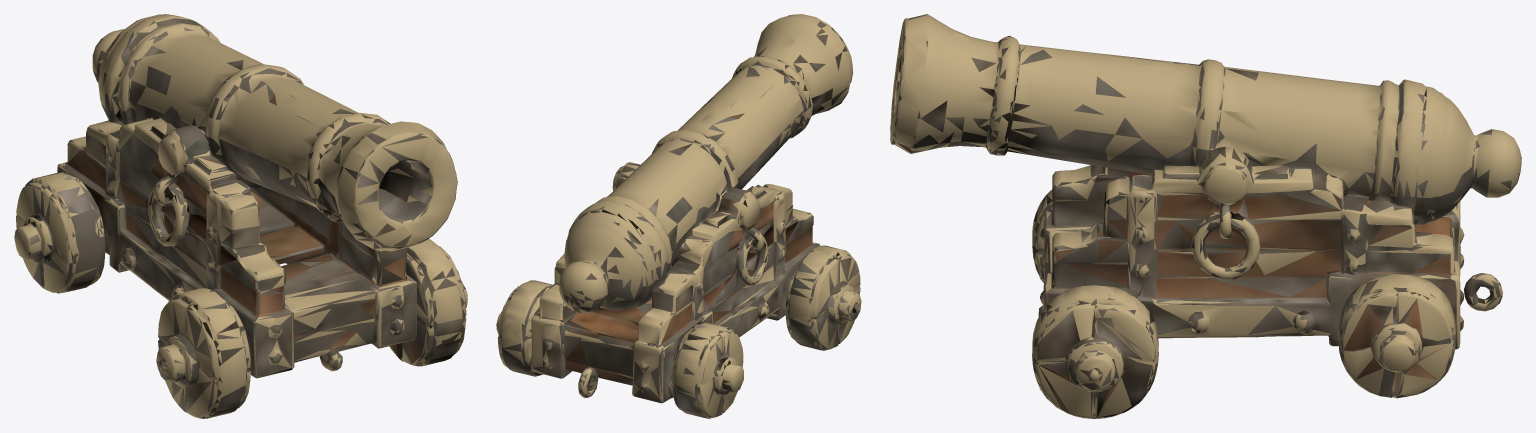
The model's file is harbor-cannon.glb.
3 views of the same model, side by side, from view 1: azimuth 30°, elevation 25°; view 2: azimuth 150°, elevation 25°; view 3: azimuth 270°, elevation 25° (orthographic). The views are drawn at different scales.
Visible parts, largest first — view 1: harbor-cannon; view 2: harbor-cannon; view 3: harbor-cannon.
Part boxes in pixels (bbox=[...]): harbor-cannon: bbox=[14, 14, 467, 418]; harbor-cannon: bbox=[496, 14, 861, 418]; harbor-cannon: bbox=[890, 14, 1521, 418].
Size of the model in its own units: 4.8 by 4.83 by 8.23.
5 materials, 4 textured.
